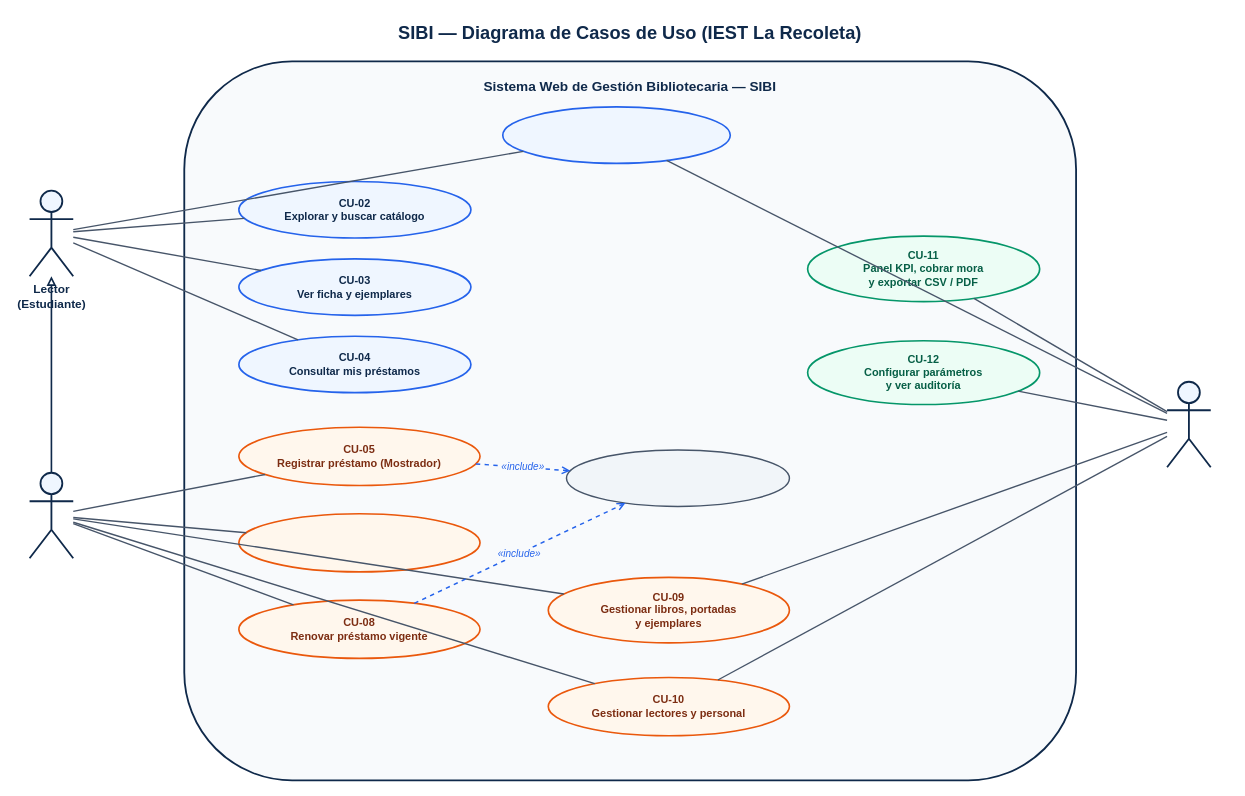
Some shapes in this 1245 by 796 pixel diagram are drawn without their labels. The shapes that lost their labels are listed below. From the top down, each one's centre as x and y in pixels, then its label:
the point at 616,135: CU-01 Iniciar / Cerrar sesión
the point at 1188,424: Administrador
the point at 677,478: CU-06 Validar lector y disponibilidad
the point at 51,515: Bibliotecario
the point at 359,542: CU-07 Registrar devolución y mora
